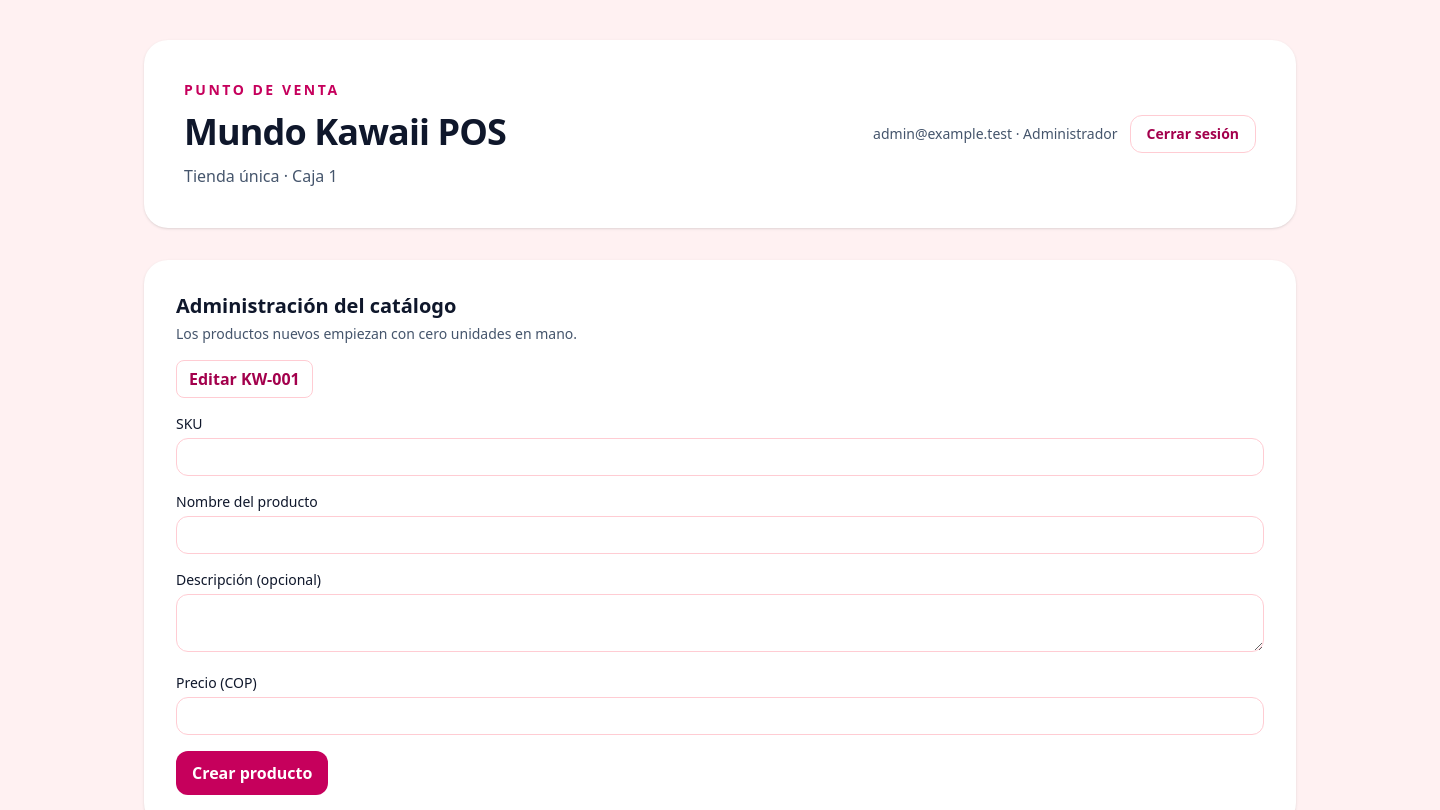
it: administrator product form › keeps the existing product edit and cancel controls in the admin form
What coordinates should you click on to do the following:
click the button "Editar KW-001"
I would click on:
 (244, 379)
Its box is [176,360,313,398].
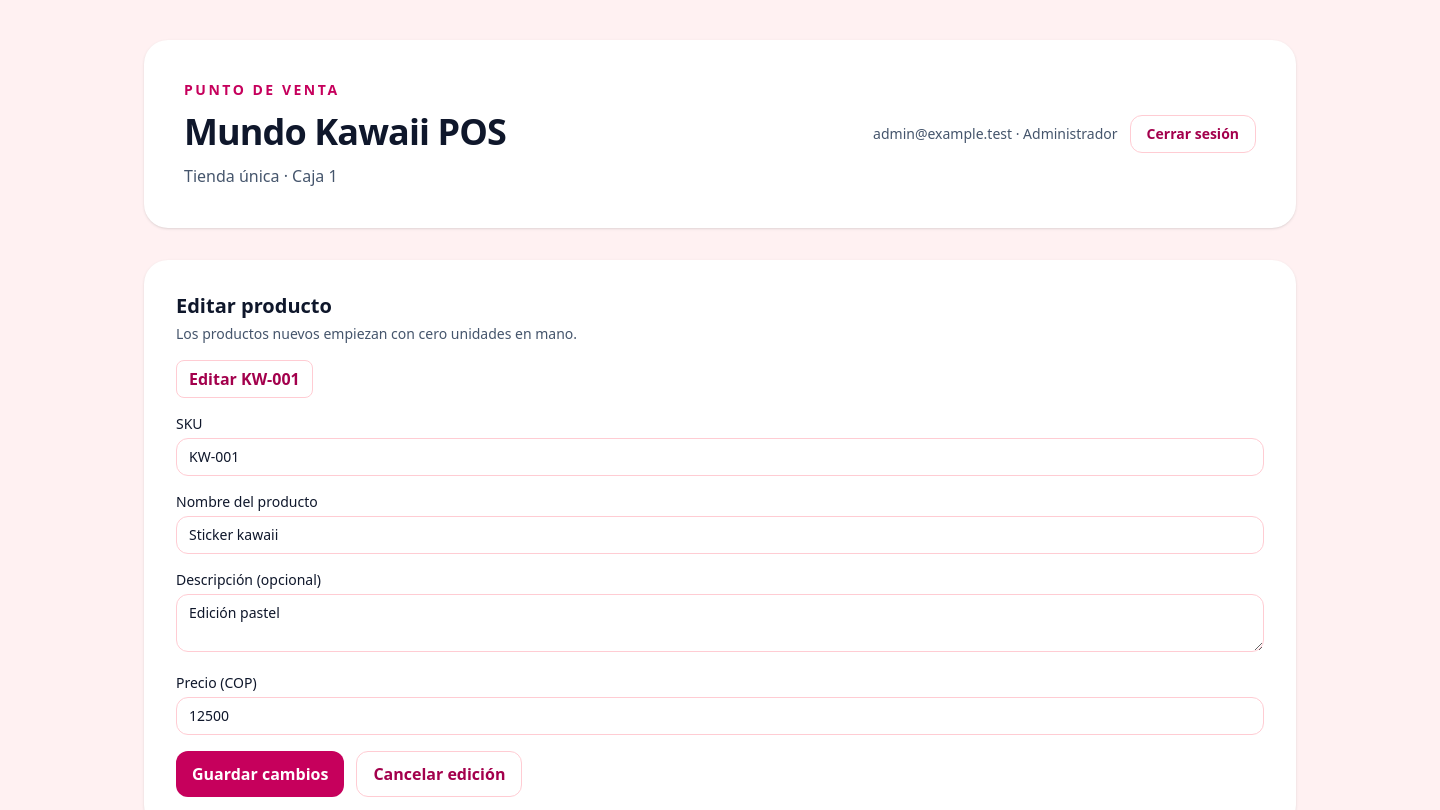
Check: the heading "Editar producto" is shown, box [176,292,332,319]
Check: the field labelled "SKU" holds "KW-001", box [176,438,1264,476]
Check: the field labelled "Nombre del producto" holds "Sticker kawaii", box [176,516,1264,554]
What coordinates should you click on to do the following:
click the button "Cancelar edición"
I would click on:
 (439, 774)
Its box is [356,751,522,797].
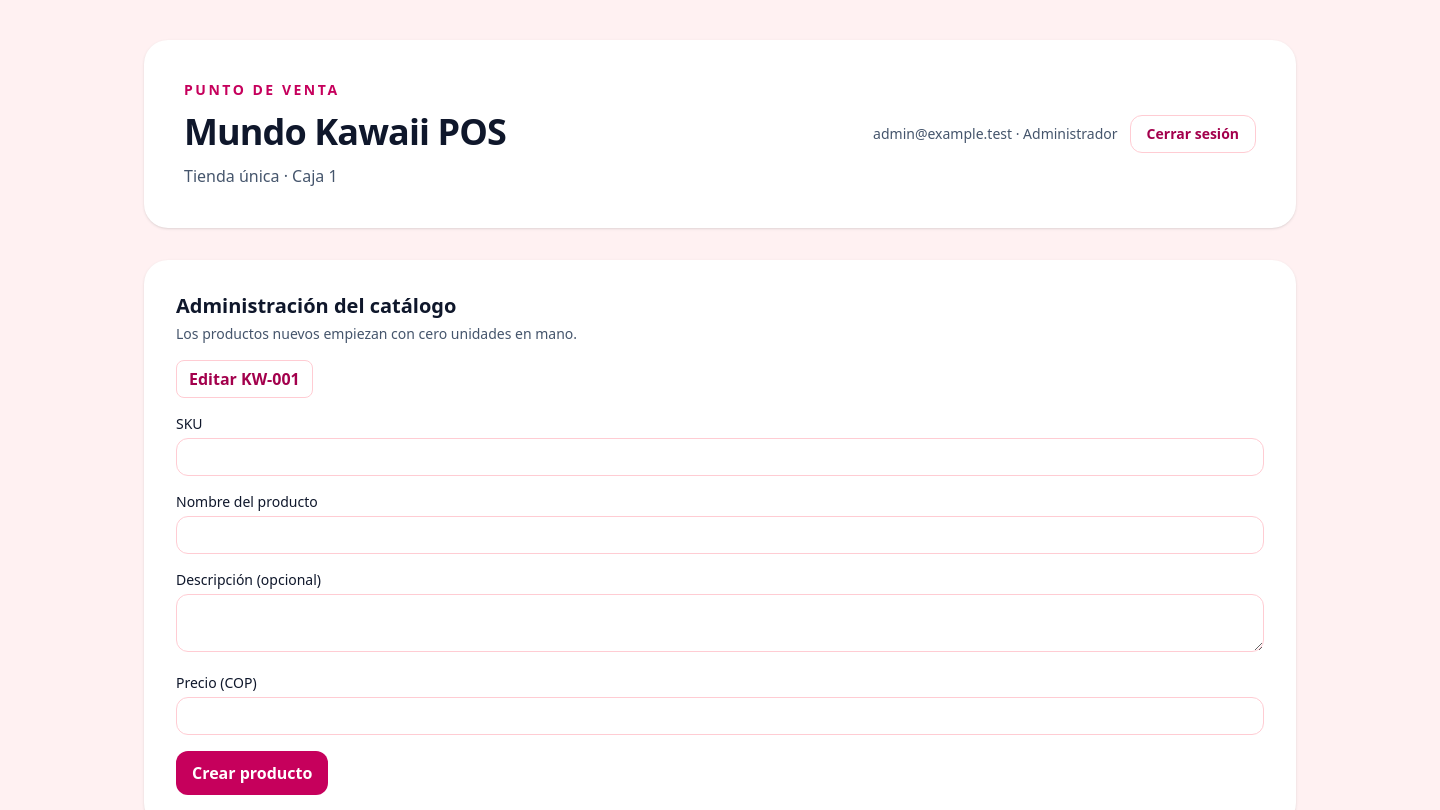
Check: the heading "Administración del catálogo" is shown, box [176,292,456,319]
